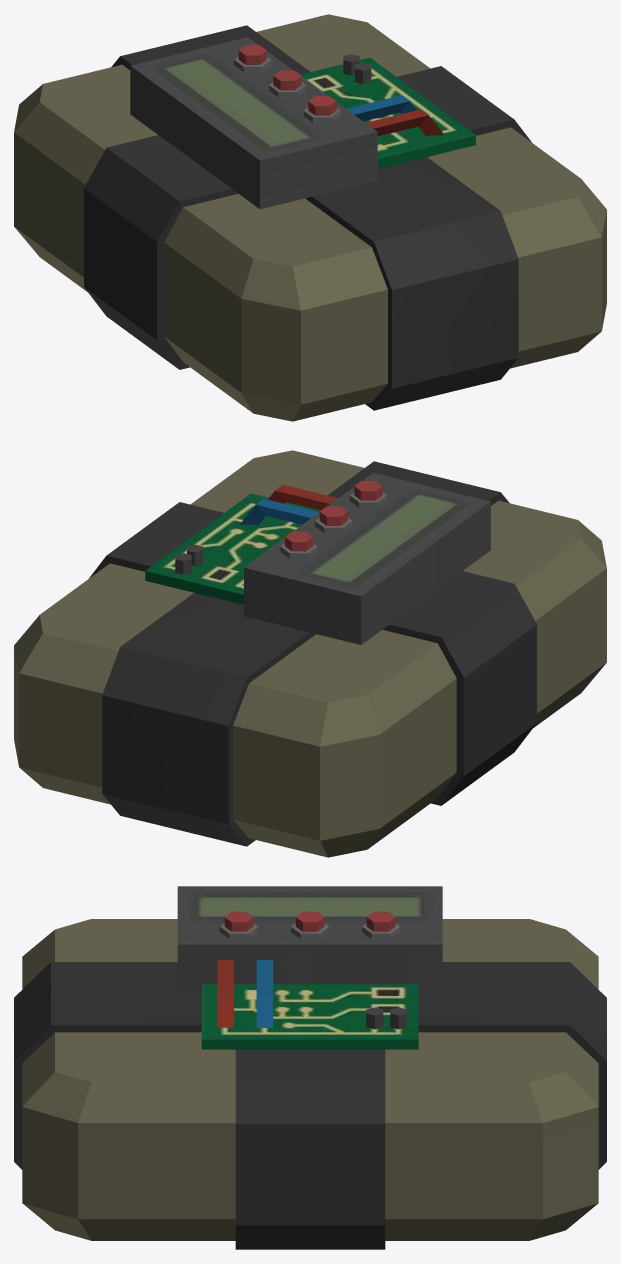
The model's file is bomba.gltf.
3 renders of one model, top to bottom at view 1: azimuth 30°, elevation 25°; view 2: azimuth 150°, elevation 25°; view 3: azimuth 270°, elevation 25°, orthographic. The views are drawn at different scales.
Visible parts, largest first — view 1: bomba; view 2: bomba; view 3: bomba.
Boxes of the visible parts, bbox=[...] form: bomba: bbox=[14, 14, 606, 421]; bomba: bbox=[14, 450, 606, 857]; bomba: bbox=[14, 886, 606, 1249].
Size of the model in its own units: 0.1541 by 0.09 by 0.2035.
Materials: 1 (1 with a texture image).
